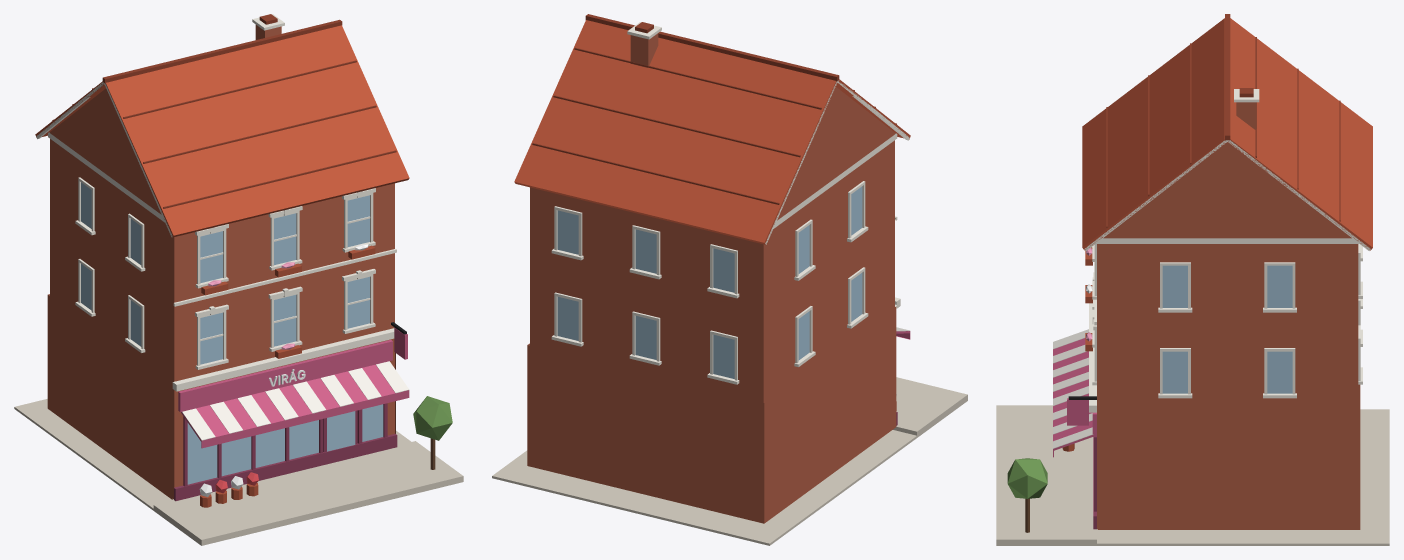
Rendered from Dukkan_genel_virag_Hafif.fbx.
3 renders of one model, left to right at view 1: azimuth 30°, elevation 25°; view 2: azimuth 150°, elevation 25°; view 3: azimuth 270°, elevation 25°, orthographic. The views are drawn at different scales.
Parts seen in each view (by area): view 1: Dukkan_genel_virag_Hafif; view 2: Dukkan_genel_virag_Hafif; view 3: Dukkan_genel_virag_Hafif.
Part boxes in pixels (bbox=[...]): Dukkan_genel_virag_Hafif: bbox=[14, 14, 463, 545]; Dukkan_genel_virag_Hafif: bbox=[492, 14, 967, 545]; Dukkan_genel_virag_Hafif: bbox=[996, 14, 1389, 545].
Size of the model in its own units: 10.14 by 14.57 by 12.49.
